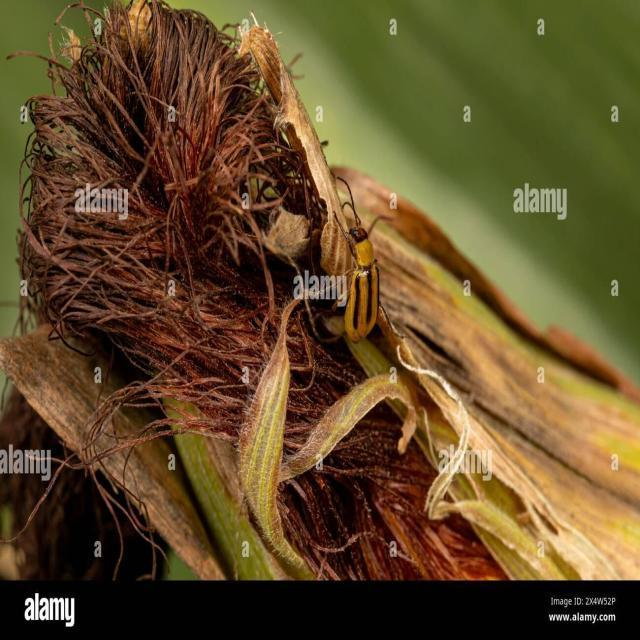trips: (332, 176, 392, 344)
